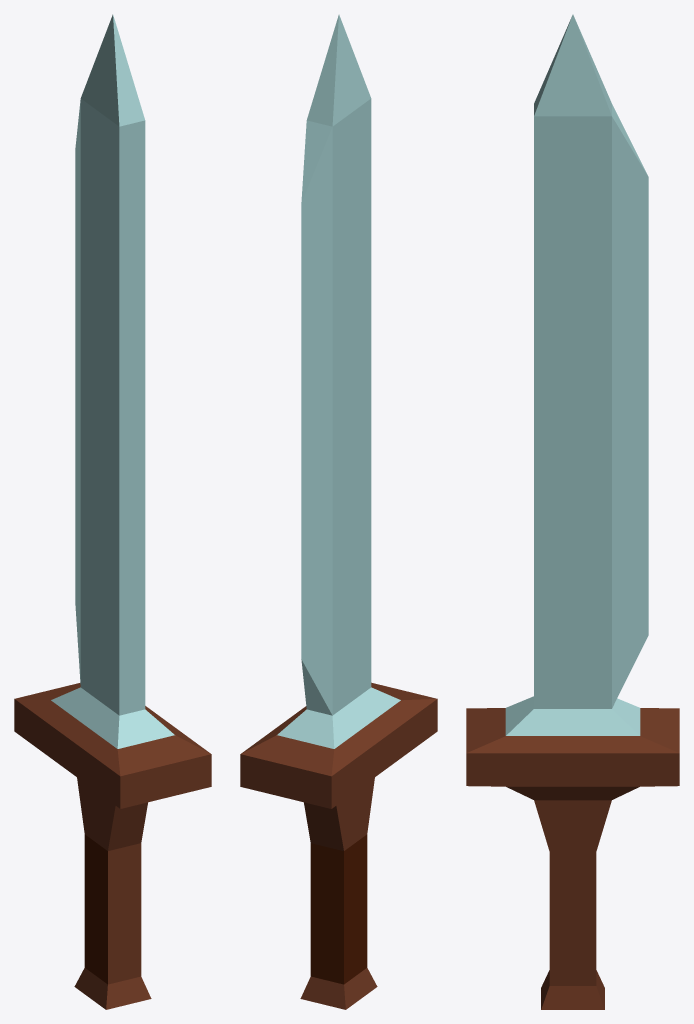
File: expensive_metal.glb
The picture shows the model from 3 angles, left to right: view 1: azimuth 30°, elevation 25°; view 2: azimuth 150°, elevation 25°; view 3: azimuth 270°, elevation 25°; orthographic projection.
Parts seen in each view (by area): view 1: Cube; view 2: Cube; view 3: Cube.
Boxes of the visible parts, x1,y1,x2,y2 form: Cube: [14, 14, 211, 1009]; Cube: [240, 14, 437, 1009]; Cube: [466, 14, 679, 1009].
Bounding box in the file's own units: 0.3535 × 3.63 × 0.7115.
Materials: 1 (1 with a texture image).
